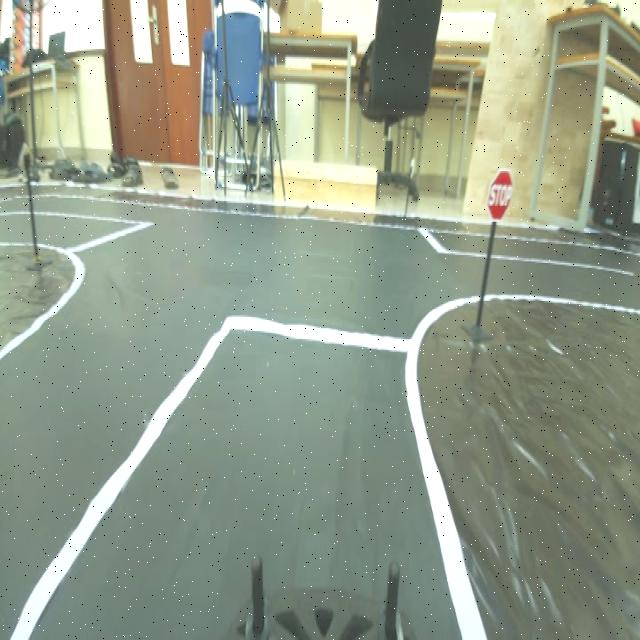stop: (480, 158, 520, 235)
